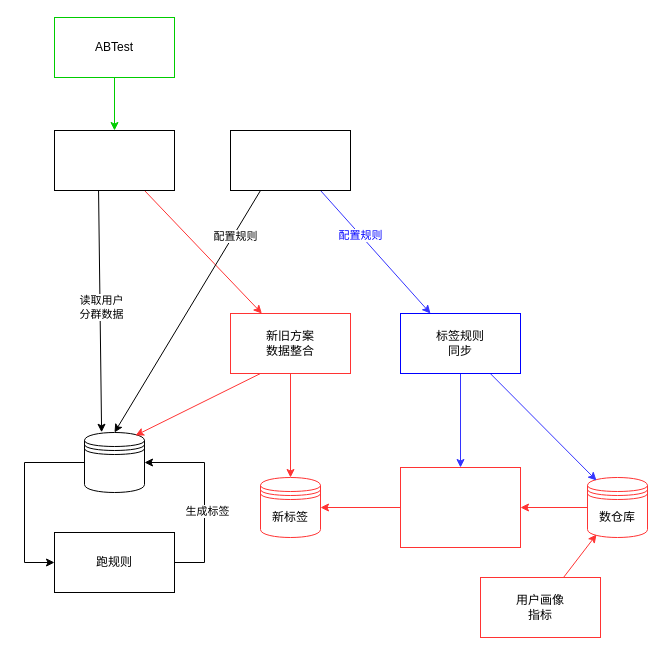
The diagram is 665 pixels wide and 655 high, and some of its shapes have lost their labels. The shapes that lost their labels are listed below. From the top down, each one's centre as x and y in pixels, then its label:
At point 114,160: "标签服务 （分群）".
At point 290,160: "配置规则 （营销中台）".
At point 114,462: "mongo".
At point 460,507: "数仓-离线计算 硬编码丰富标签 使用标签规则".
